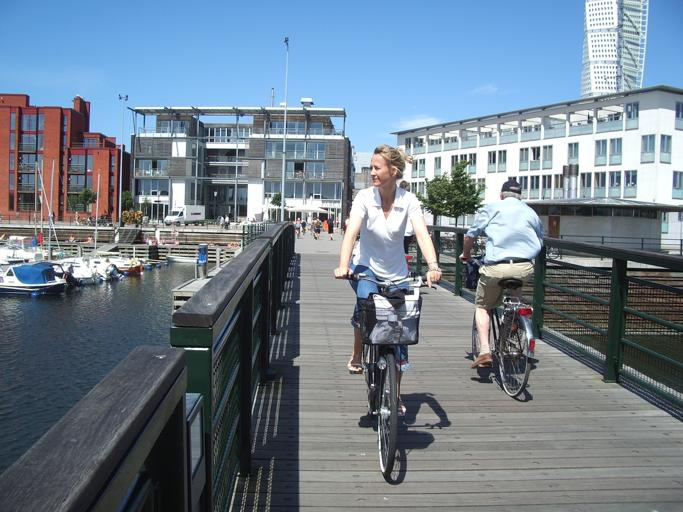non-vehicle: (337, 274, 439, 478), (462, 254, 534, 398)
